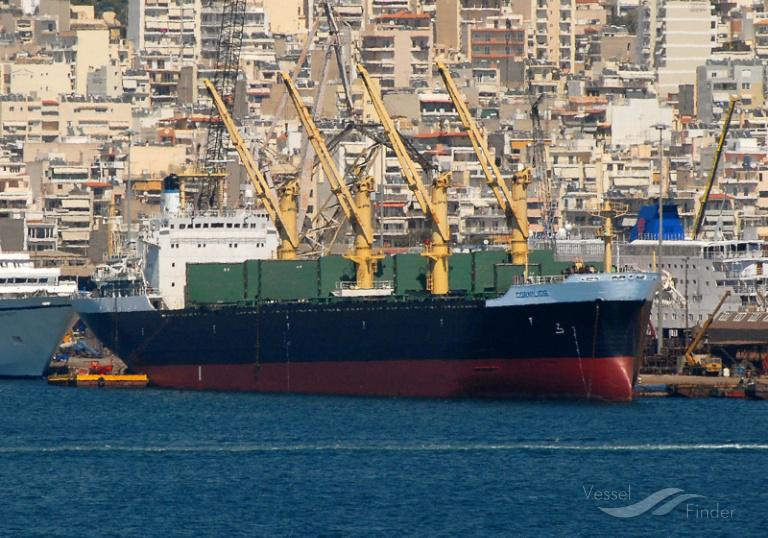OCR: (510, 283, 555, 302)
